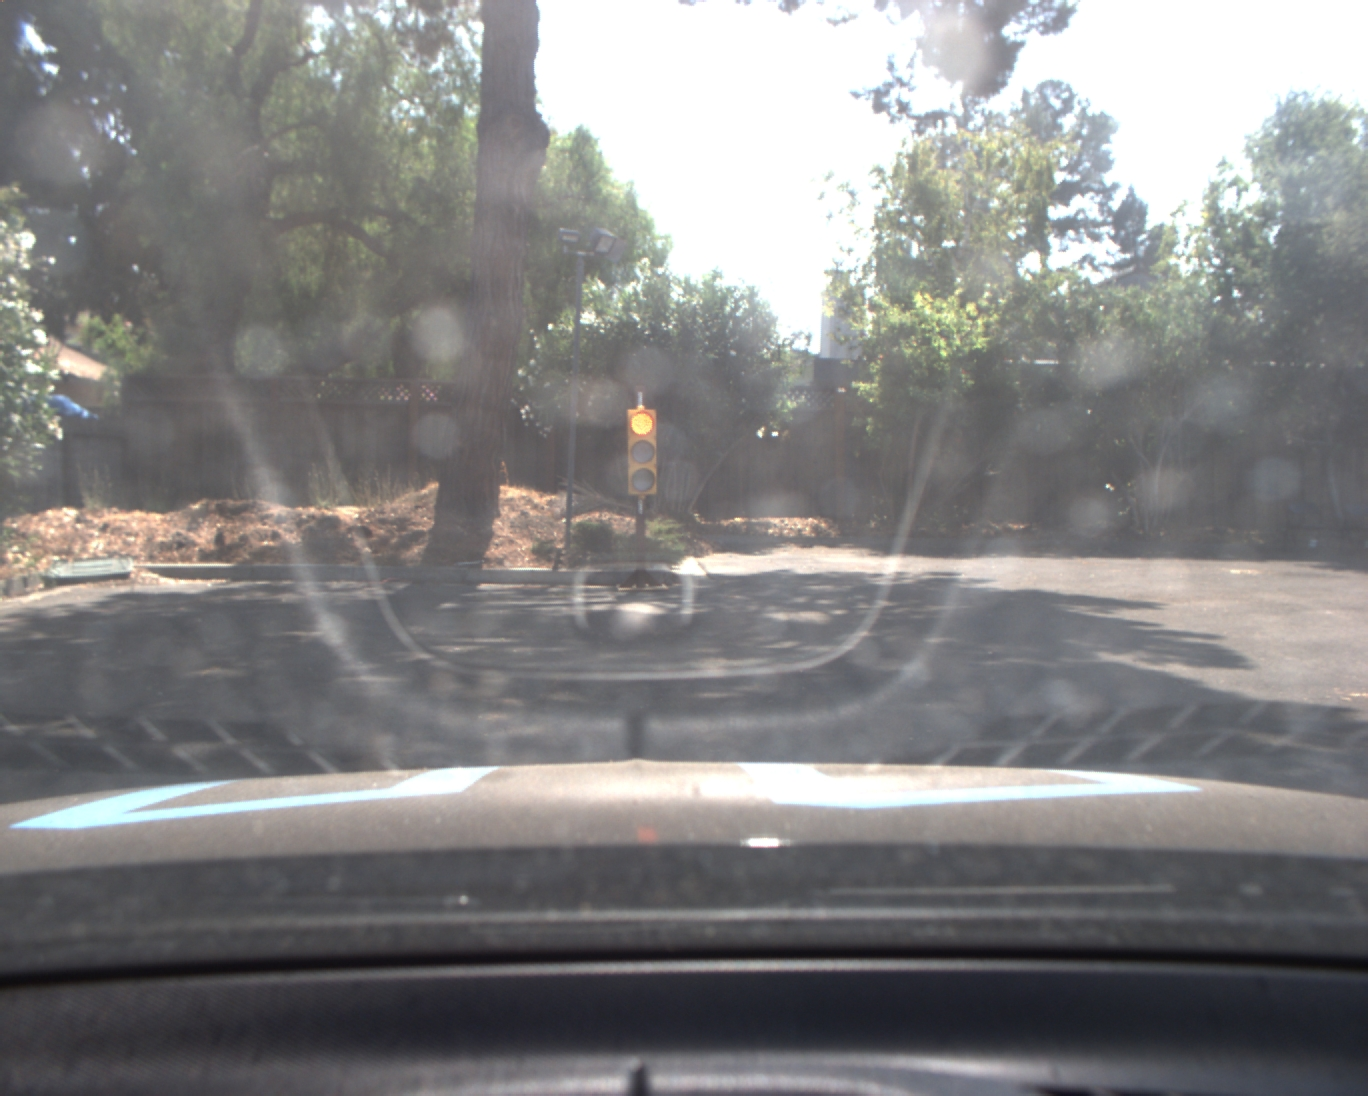red: (627, 402, 660, 501)
